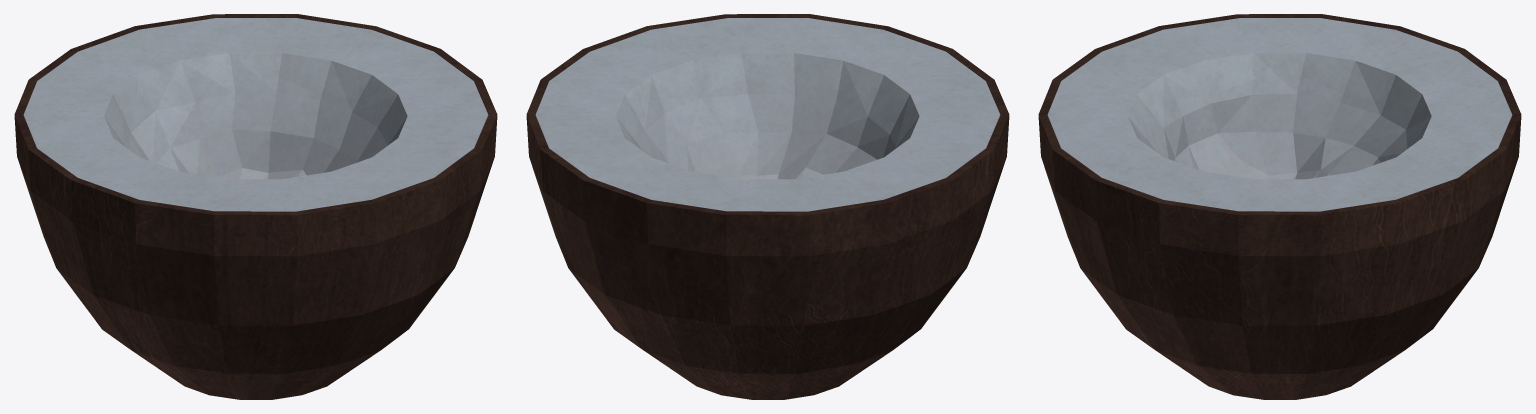
File: A_FruitNoixCocoDemi.fbx
The picture shows the model from 3 angles, left to right: view 1: azimuth 30°, elevation 25°; view 2: azimuth 150°, elevation 25°; view 3: azimuth 270°, elevation 25°; orthographic projection.
Parts seen in each view (by area): view 1: A_FruitNoixdeCocoDemi_LD; view 2: A_FruitNoixdeCocoDemi_LD; view 3: A_FruitNoixdeCocoDemi_LD.
Part boxes in pixels (x1,y1,x2,y2): A_FruitNoixdeCocoDemi_LD: (14,14,497,399); A_FruitNoixdeCocoDemi_LD: (526,14,1009,399); A_FruitNoixdeCocoDemi_LD: (1038,14,1521,399).
Bounding box in the file's own units: 18.66 × 11.85 × 18.93.
1 material, 1 textured.
